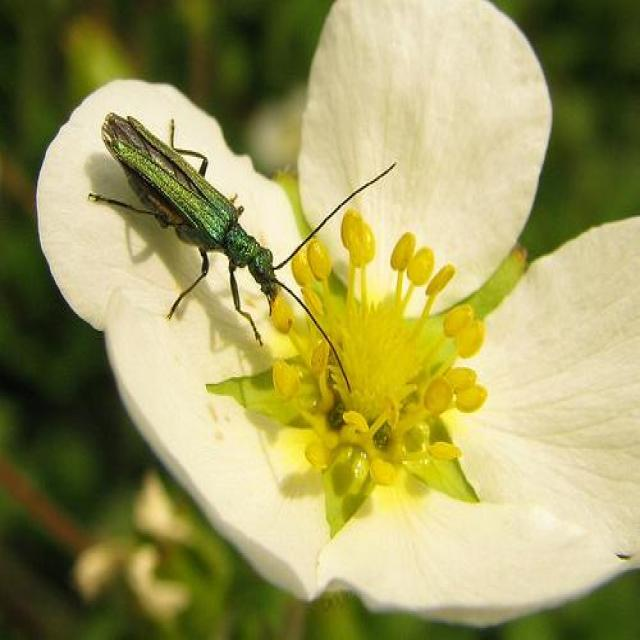BlisterBeetle-Adult-: (76, 93, 369, 364)
